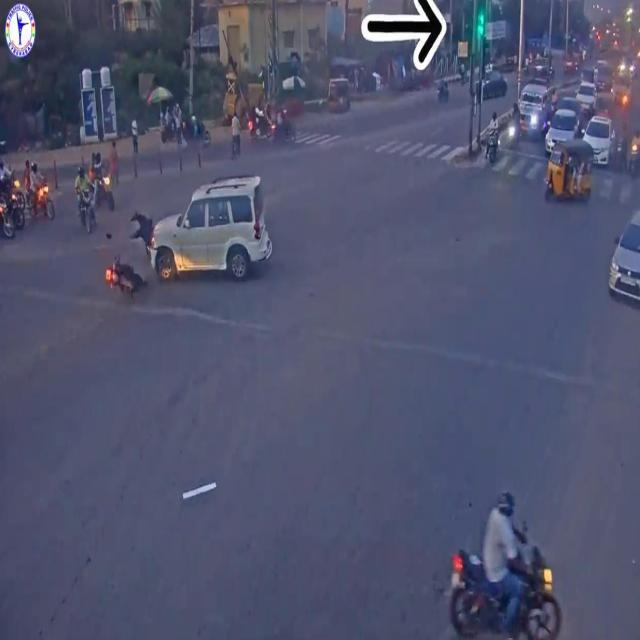accident: (101, 166, 275, 309)
non_accident: (479, 79, 640, 208), (0, 150, 58, 247), (67, 142, 118, 238)
